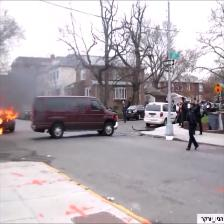fire: (0, 96, 23, 137)
